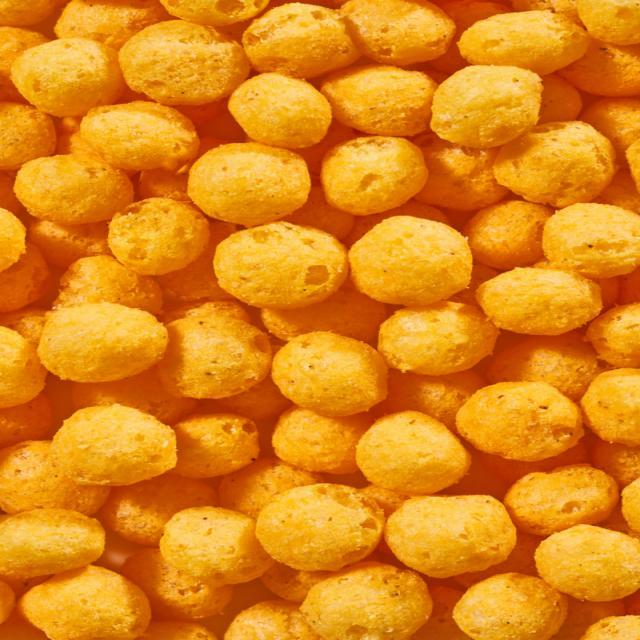Chips packaged: (438, 369, 581, 467), (248, 483, 394, 571), (207, 220, 356, 306), (379, 490, 523, 578), (345, 408, 476, 494), (351, 217, 476, 303), (274, 328, 381, 418)
